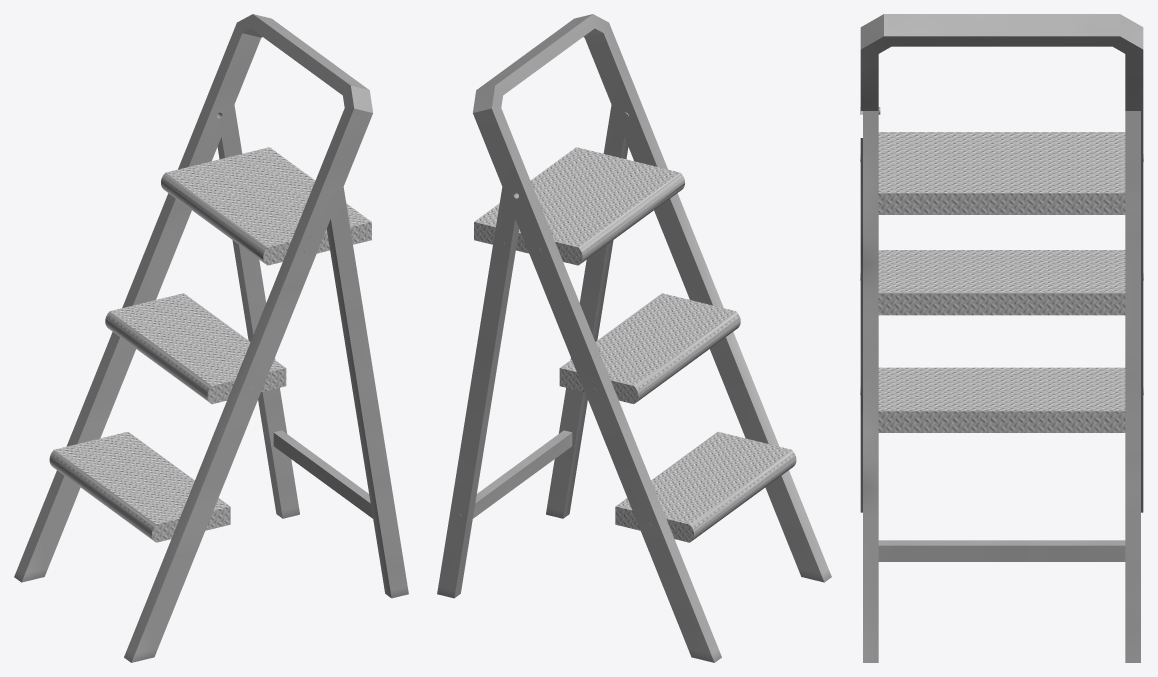
The model's file is SmallLadder1.gltf.
3 renders of one model, left to right at view 1: azimuth 30°, elevation 25°; view 2: azimuth 150°, elevation 25°; view 3: azimuth 270°, elevation 25°, orthographic. The views are drawn at different scales.
Parts seen in each view (by area): view 1: node1; view 2: node1; view 3: node1.
Part boxes in pixels (x1=…): node1: x1=14, y1=14, x2=408, y2=662; node1: x1=437, y1=14, x2=831, y2=662; node1: x1=860, y1=14, x2=1143, y2=662.
Bounding box in the file's own units: 0.3062 × 0.5401 × 0.2237.
